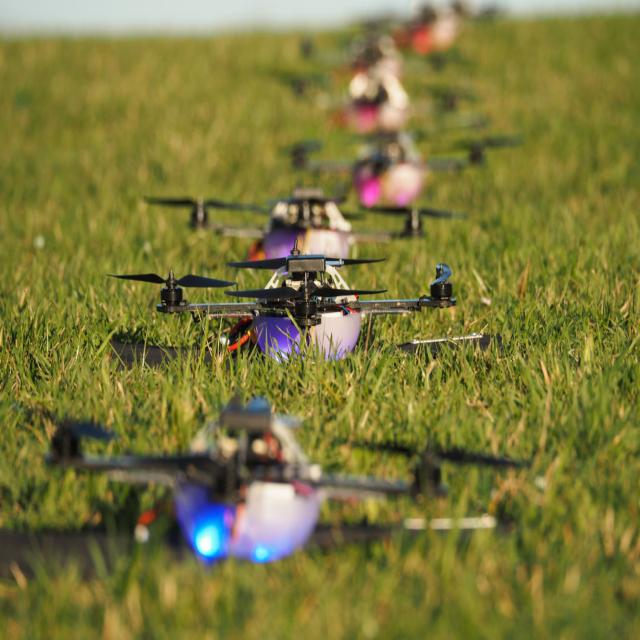drone: (53, 387, 520, 587), (113, 251, 476, 370), (127, 163, 474, 280)
